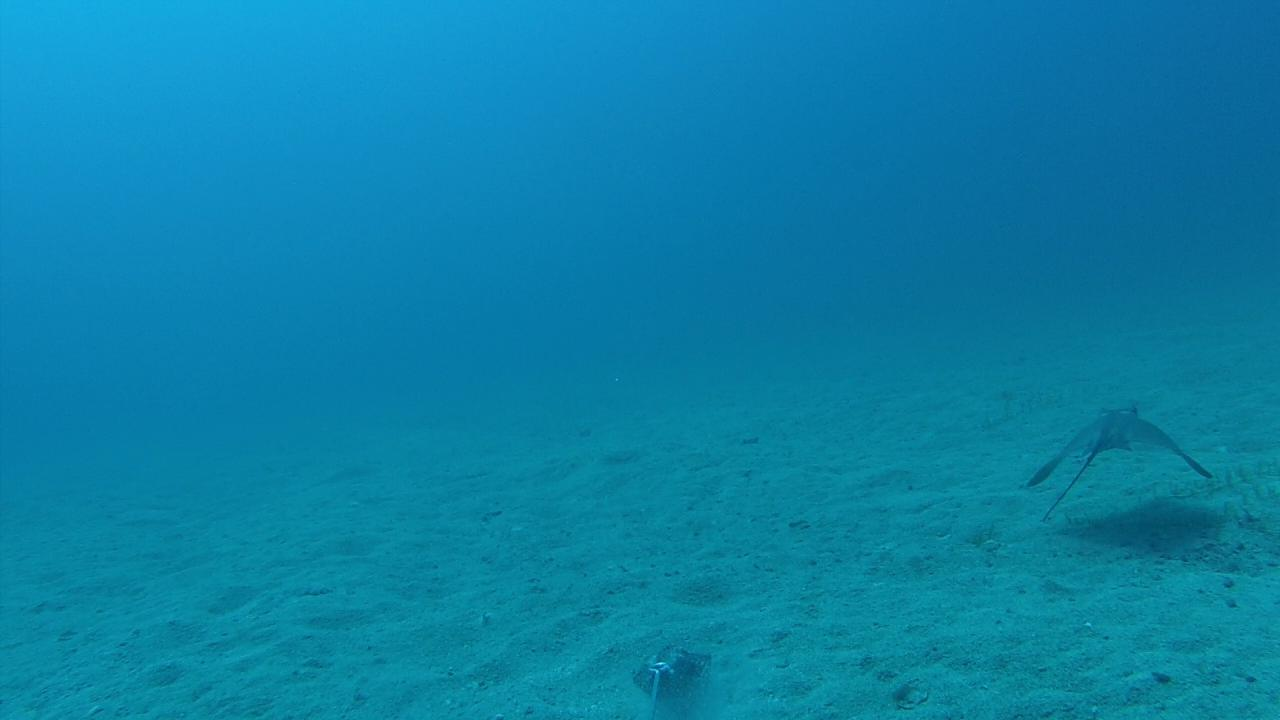dasyatis: (1026, 403, 1218, 522)
